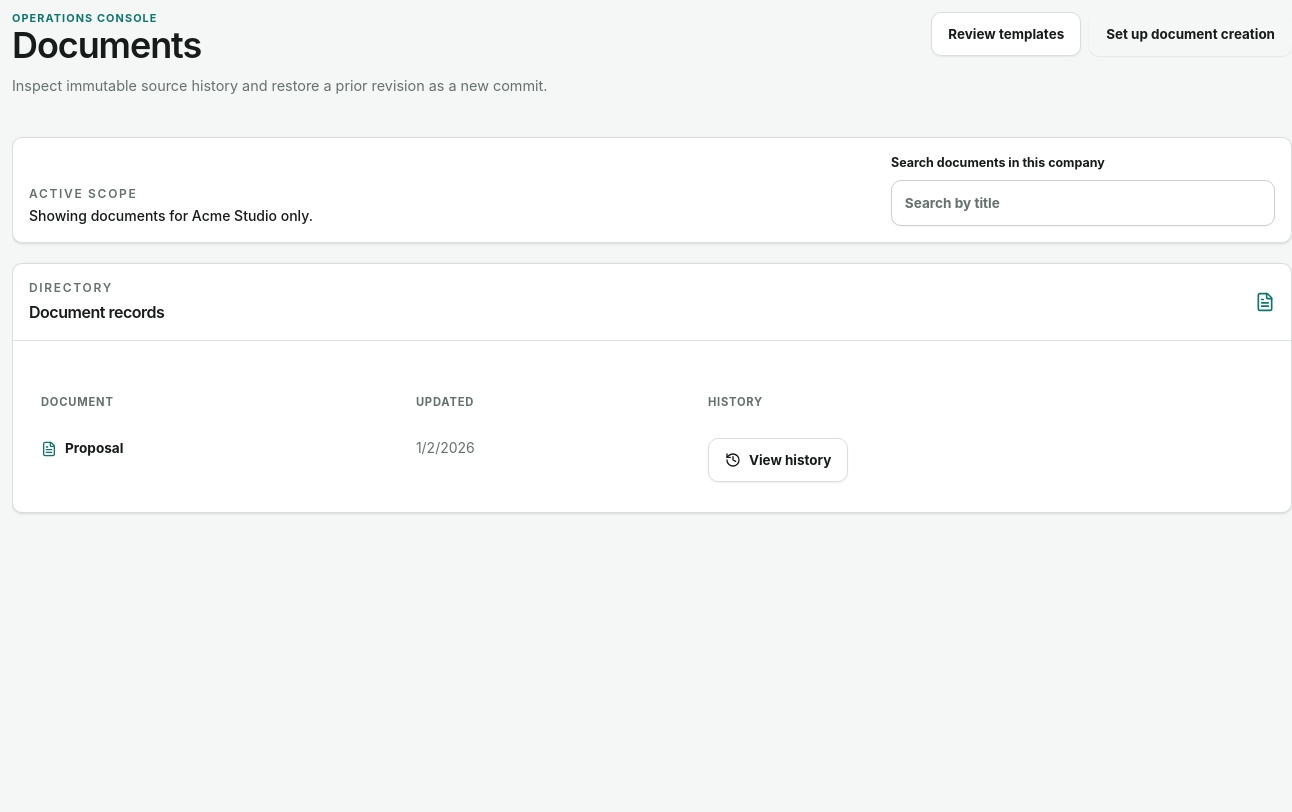
Test case: DocumentsDashboard › shows a no-match state without an empty table when text filtering removes every row
Expected: the button "View history" is shown, [708,438,848,482]
Type "missing" into the field labelled "Search documents in this company" at (1083, 203), box [891,180,1275,226]
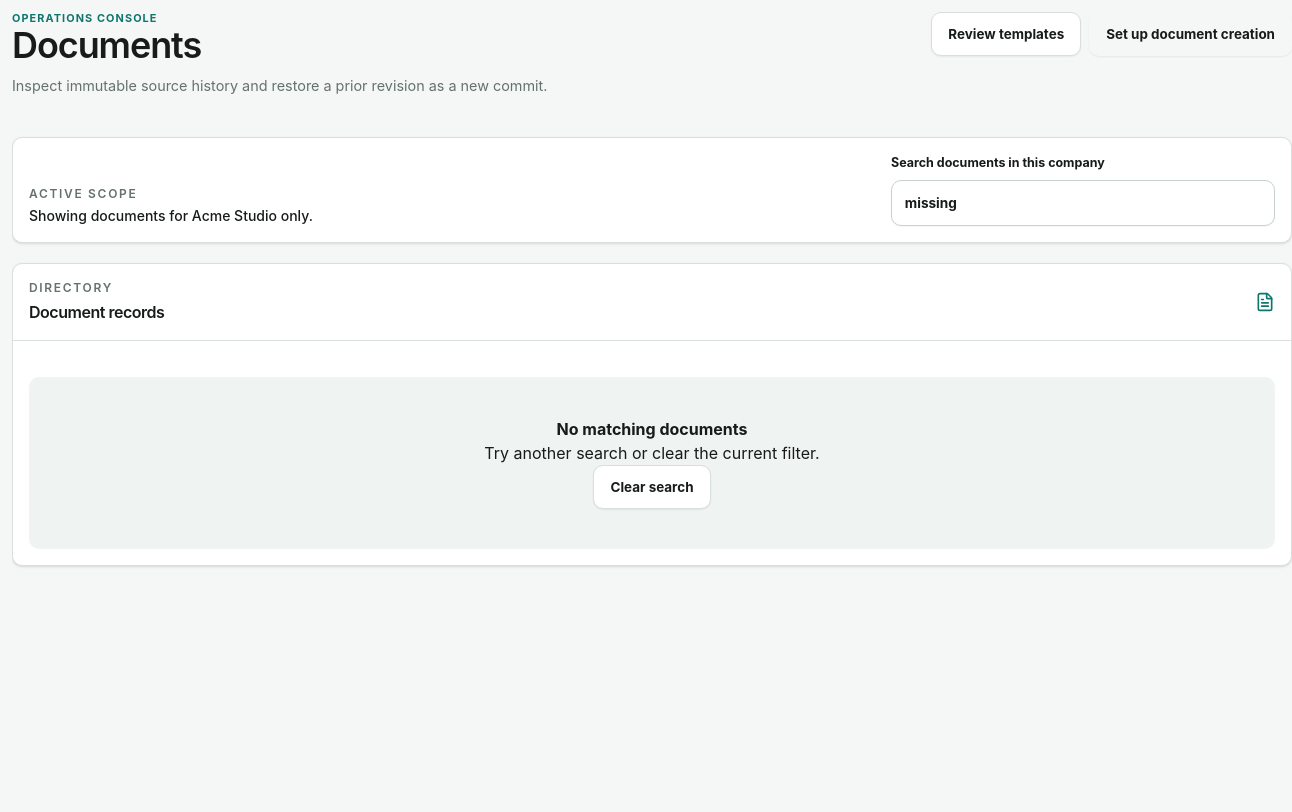
Expected: the text "No matching documents" is shown, [556,419,748,439]
Expected: the table is gone
